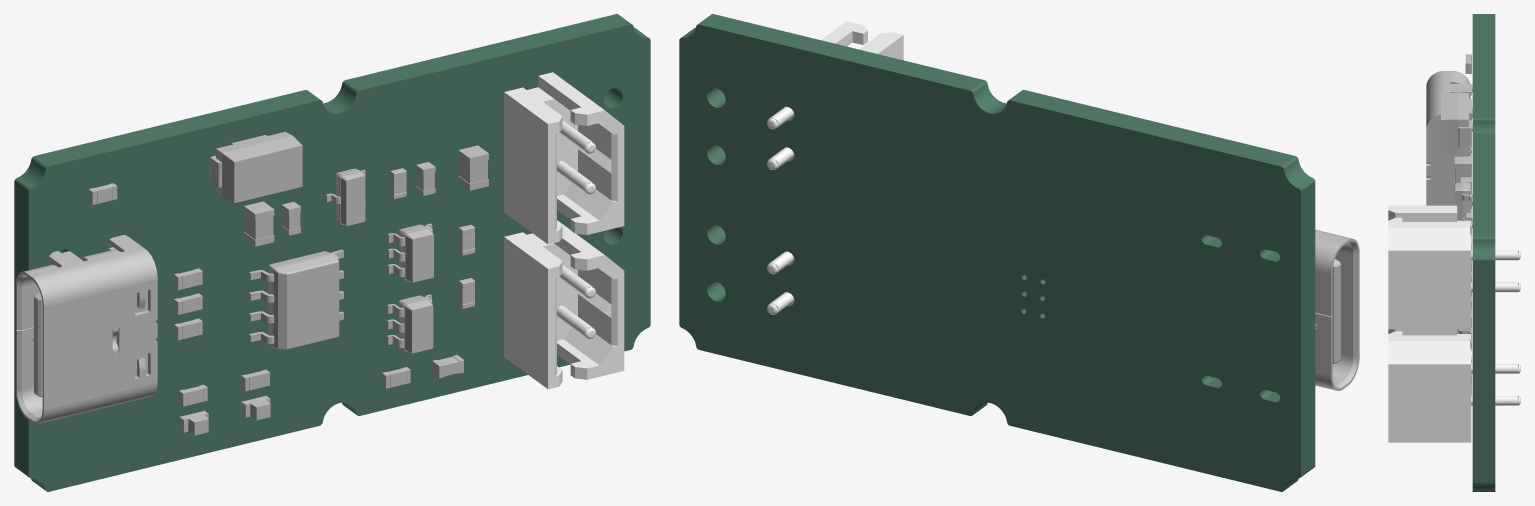
The model's file is tp4056-boardoza.glb.
3 renders of one model, left to right at view 1: azimuth 30°, elevation 25°; view 2: azimuth 150°, elevation 25°; view 3: azimuth 270°, elevation 25°, orthographic. The views are drawn at different scales.
Visible parts, largest first — view 1: _autosave-Battery Protector Load Switch_PCB, tp4056-boardoza, part_29, part_21, D_SMA, SOT_23_6 (×2), C_0805_2012Metric (×2), SOT_23, part_55; view 2: _autosave-Battery Protector Load Switch_PCB, part_29, tp4056-boardoza, part_55; view 3: tp4056-boardoza, _autosave-Battery Protector Load Switch_PCB, D_SMA, part_29, part_55, SOT_23, C_0805_2012Metric.
Part boxes in pixels (box(x1,y1,x2,y2)): _autosave-Battery Protector Load Switch_PCB: box(14, 14, 650, 491); tp4056-boardoza: box(504, 72, 624, 389); part_29: box(15, 235, 157, 424); part_21: box(268, 251, 339, 349); D_SMA: box(210, 132, 302, 203); SOT_23_6 (×2): box(387, 223, 433, 353); C_0805_2012Metric (×2): box(244, 145, 488, 246); SOT_23: box(325, 168, 365, 225); part_55: box(34, 247, 147, 397); _autosave-Battery Protector Load Switch_PCB: box(679, 14, 1315, 491); part_29: box(1210, 229, 1359, 394); tp4056-boardoza: box(767, 21, 903, 314); part_55: box(1332, 259, 1340, 363); tp4056-boardoza: box(1388, 205, 1520, 442); _autosave-Battery Protector Load Switch_PCB: box(1472, 14, 1495, 491); D_SMA: box(1441, 92, 1471, 153); part_29: box(1426, 71, 1472, 228); part_55: box(1430, 118, 1472, 205); SOT_23: box(1455, 182, 1471, 223); C_0805_2012Metric: box(1454, 156, 1471, 189).
Bounding box in the file's own units: 40.94 × 20 × 9.4.
